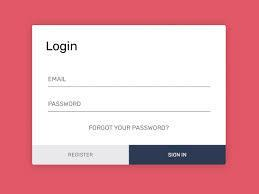button: (33, 145, 130, 166), (131, 146, 227, 166)
input: (47, 69, 212, 87), (46, 94, 211, 112)
label: (46, 41, 80, 56)
